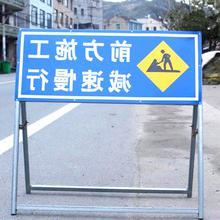sign: (15, 30, 199, 99)
